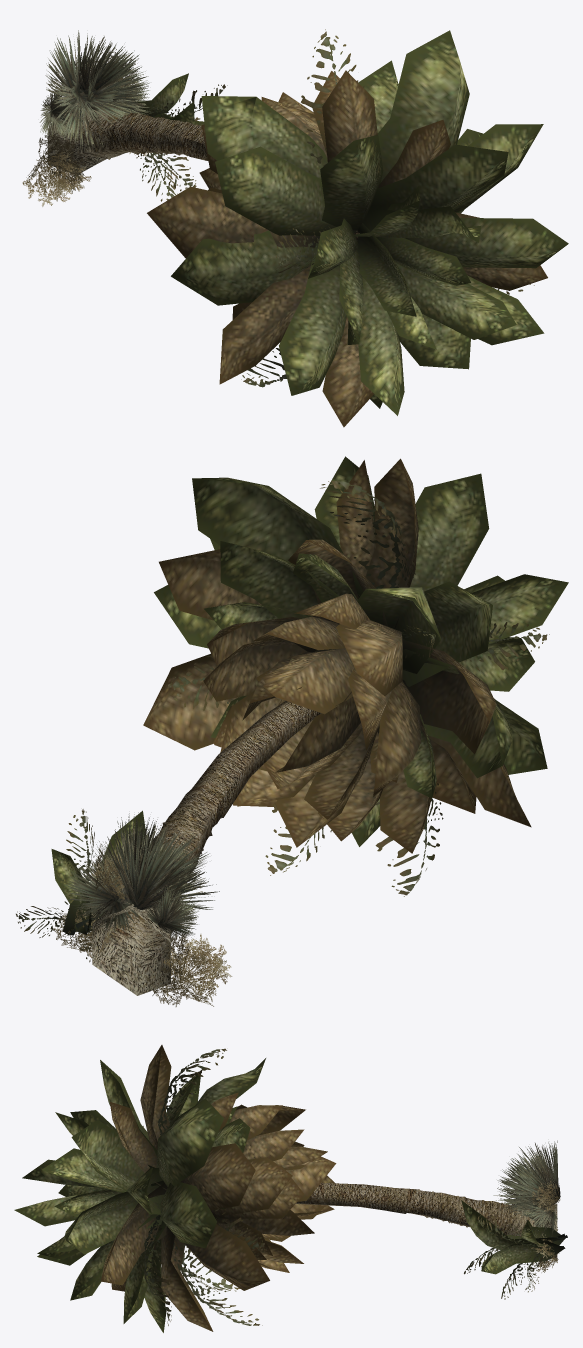
Rendered from tdr_v_palm_c.obj.
The picture shows the model from 3 angles, top to bottom: view 1: azimuth 30°, elevation 25°; view 2: azimuth 150°, elevation 25°; view 3: azimuth 270°, elevation 25°; orthographic projection. The views are drawn at different scales.
Visible parts, largest first — view 1: tdr_v_palm_c; view 2: tdr_v_palm_c; view 3: tdr_v_palm_c.
Part boxes in pixels (<box>): tdr_v_palm_c: <box>22,29,568,427</box>; tdr_v_palm_c: <box>16,456,568,1006</box>; tdr_v_palm_c: <box>14,1045,567,1332</box>.
Bounding box in the file's own units: 2752 × 2791 × 4985.
Materials: 5 (5 with a texture image).
